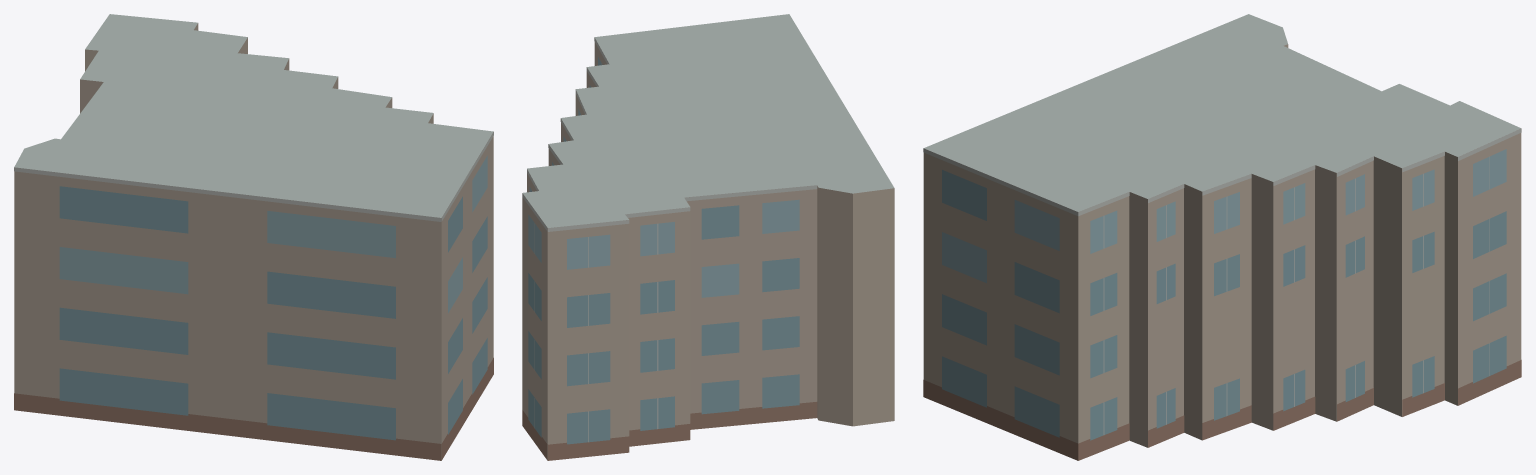
File: survey-upis-32712062.glb
The picture shows the model from 3 angles, left to right: view 1: azimuth 30°, elevation 25°; view 2: azimuth 150°, elevation 25°; view 3: azimuth 270°, elevation 25°; orthographic projection. The views are drawn at different scales.
Visible parts, largest first — view 1: survey-upis-32712062.tmp; view 2: survey-upis-32712062.tmp; view 3: survey-upis-32712062.tmp.
Part boxes in pixels (left/top/right/bottom): survey-upis-32712062.tmp: left=14, top=14, right=493, bottom=460; survey-upis-32712062.tmp: left=522, top=14, right=894, bottom=460; survey-upis-32712062.tmp: left=923, top=14, right=1521, bottom=460.
Bounding box in the file's own units: 24.77 × 14.5 × 31.59.
